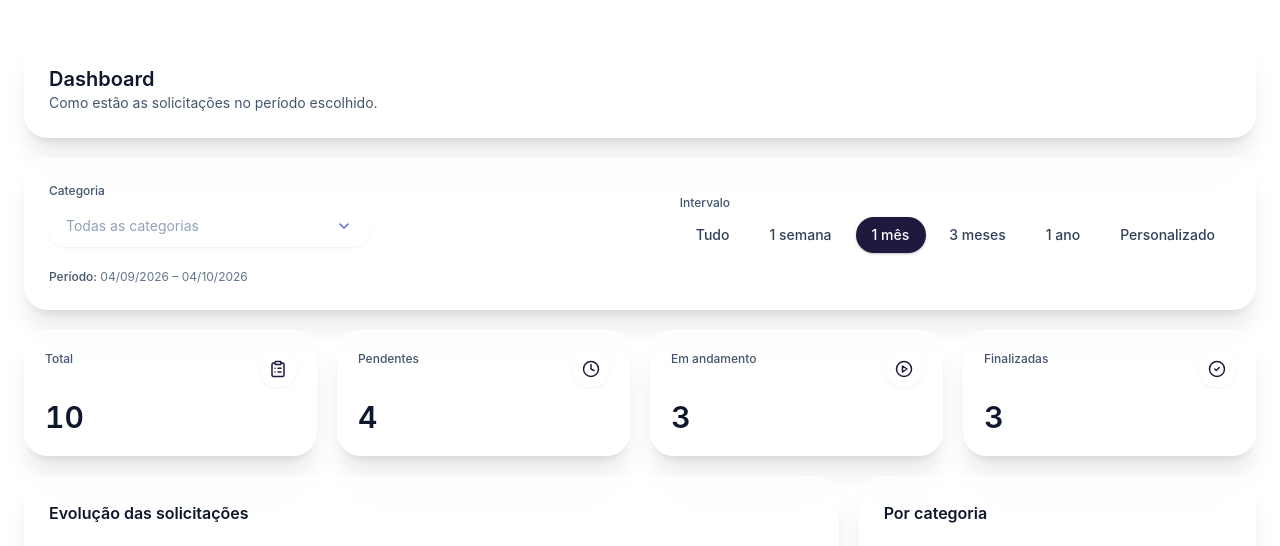
DashboardView › personalizado sem as duas datas mostra o aviso no lugar dos números
Click the button "Personalizado": {"x": 1168, "y": 235} [1104,217,1231,253]
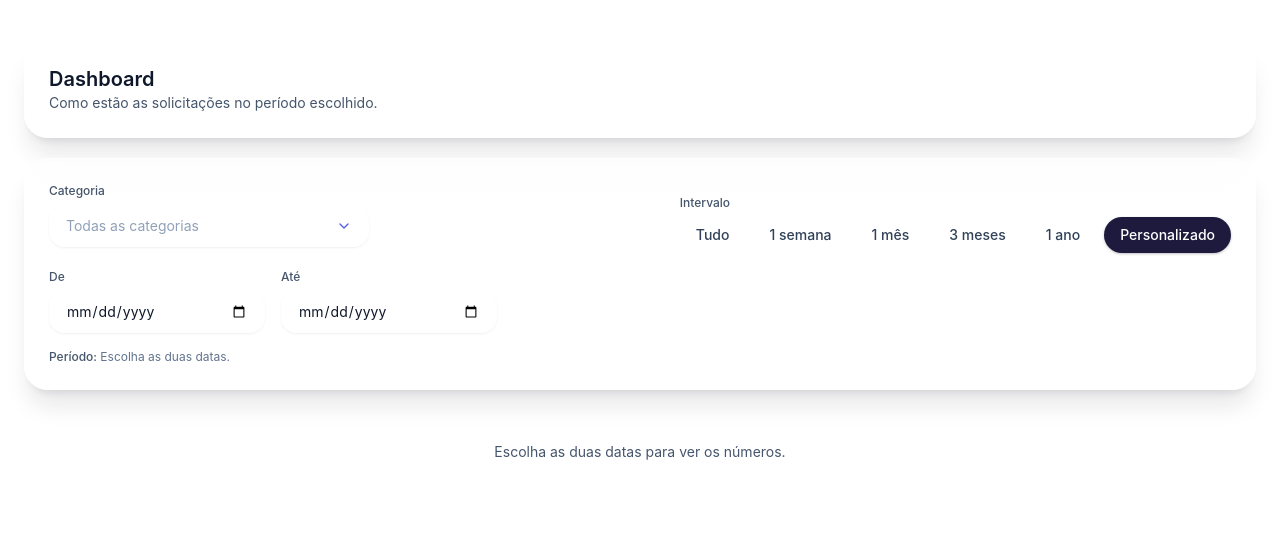
Check: no headings are shown
Check: the text "Por categoria" is gone
Check: the text "Escolha as duas datas para ver os números." is shown, box [24,410,1256,494]
